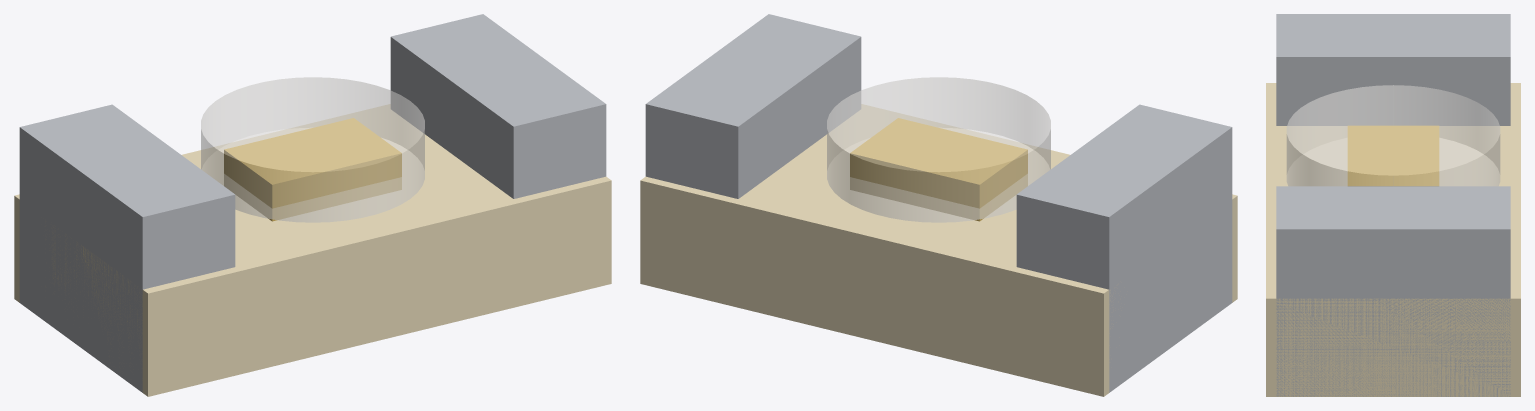
File: led-0603.glb
3 views of the same model, side by side, from view 1: azimuth 30°, elevation 25°; view 2: azimuth 150°, elevation 25°; view 3: azimuth 270°, elevation 25° (orthographic). The views are drawn at different scales.
Parts seen in each view (by area): view 1: object 1, object 4, body, object 2; view 2: object 1, object 4, body, object 2; view 3: object 4, object 1, body, object 2.
Boxes of the visible parts, left/top/right/bottom form: object 1: left=14, top=104, right=611, bottom=396; object 4: left=19, top=14, right=606, bottom=392; body: left=201, top=77, right=424, bottom=222; object 2: left=224, top=118, right=401, bottom=221; object 1: left=640, top=104, right=1237, bottom=396; object 4: left=645, top=14, right=1232, bottom=392; body: left=827, top=77, right=1050, bottom=222; object 2: left=850, top=118, right=1027, bottom=221; object 4: left=1276, top=14, right=1510, bottom=396; object 1: left=1266, top=83, right=1520, bottom=396; body: left=1286, top=85, right=1500, bottom=186; object 2: left=1347, top=125, right=1439, bottom=186.
Size of the model in its own units: 0.0016 by 0.00058 by 0.0008.
